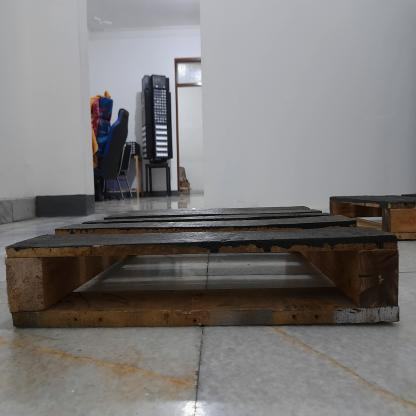Wooden-Pallet: (2, 203, 400, 329)
